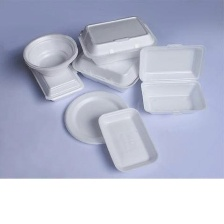foam_box: (133, 40, 211, 120), (95, 103, 163, 174), (74, 13, 161, 67), (59, 88, 135, 149), (69, 50, 149, 94), (20, 28, 80, 77), (25, 60, 86, 103)
